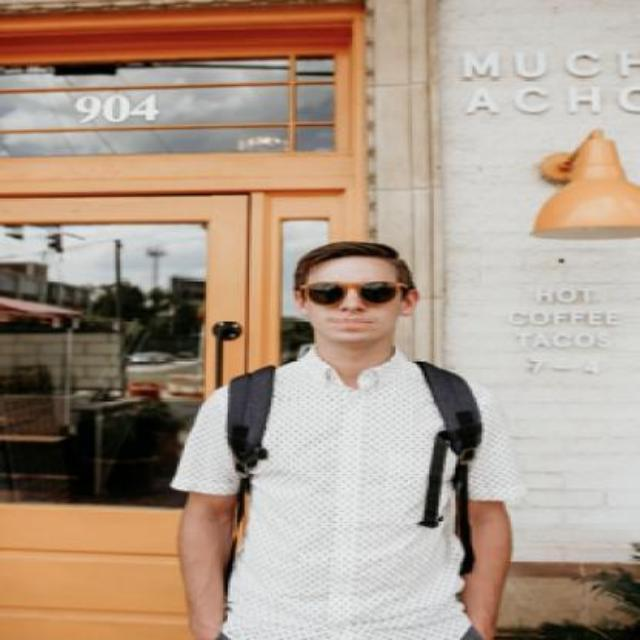sunglasses: (300, 280, 408, 304)
